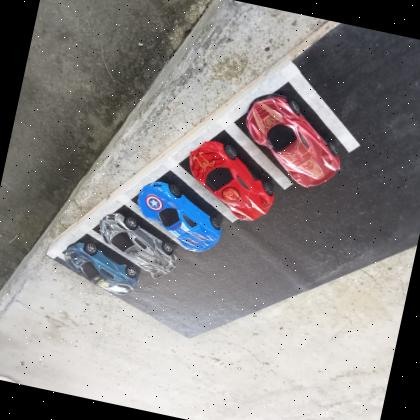Car: (235, 90, 354, 195), (180, 138, 284, 225), (129, 179, 230, 258), (92, 211, 185, 283), (58, 239, 142, 298)
